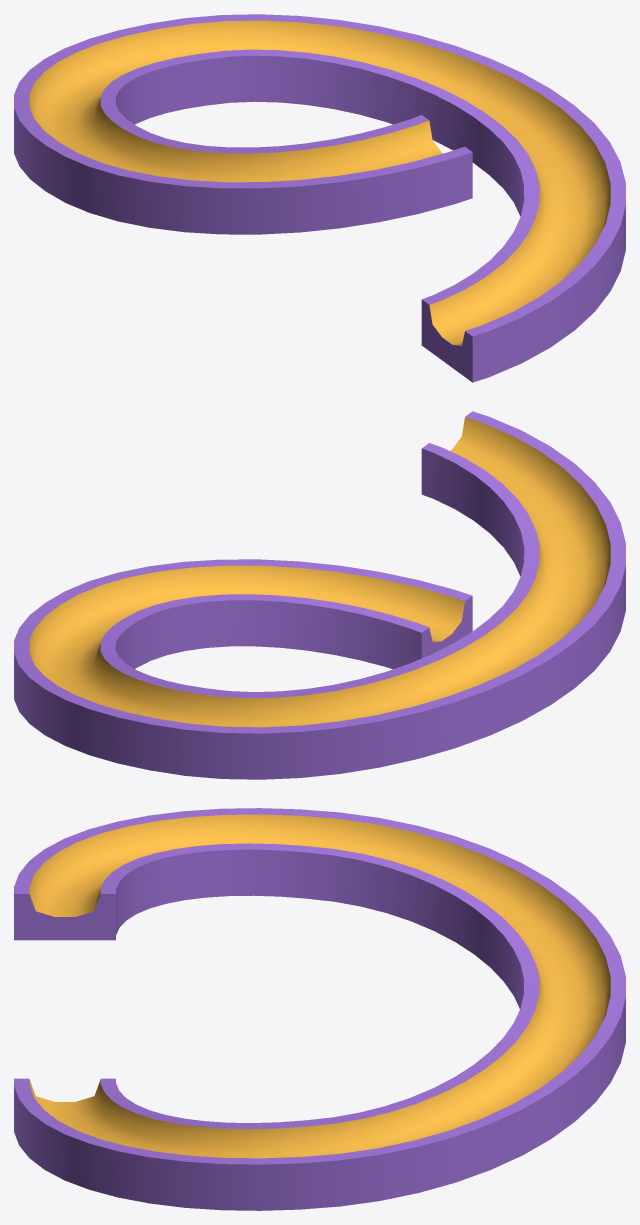
The model's file is helix-large-left.glb.
3 renders of one model, top to bottom at view 1: azimuth 30°, elevation 25°; view 2: azimuth 150°, elevation 25°; view 3: azimuth 270°, elevation 25°, orthographic.
Visible parts, largest first — view 1: helix-large-left; view 2: helix-large-left; view 3: helix-large-left.
Part boxes in pixels (<box>): helix-large-left: <box>14,14,625,382</box>; helix-large-left: <box>14,411,625,779</box>; helix-large-left: <box>14,808,625,1210</box>.
Bounding box in the file's own units: 6 × 2.5 × 6.
1 material, 1 textured.
